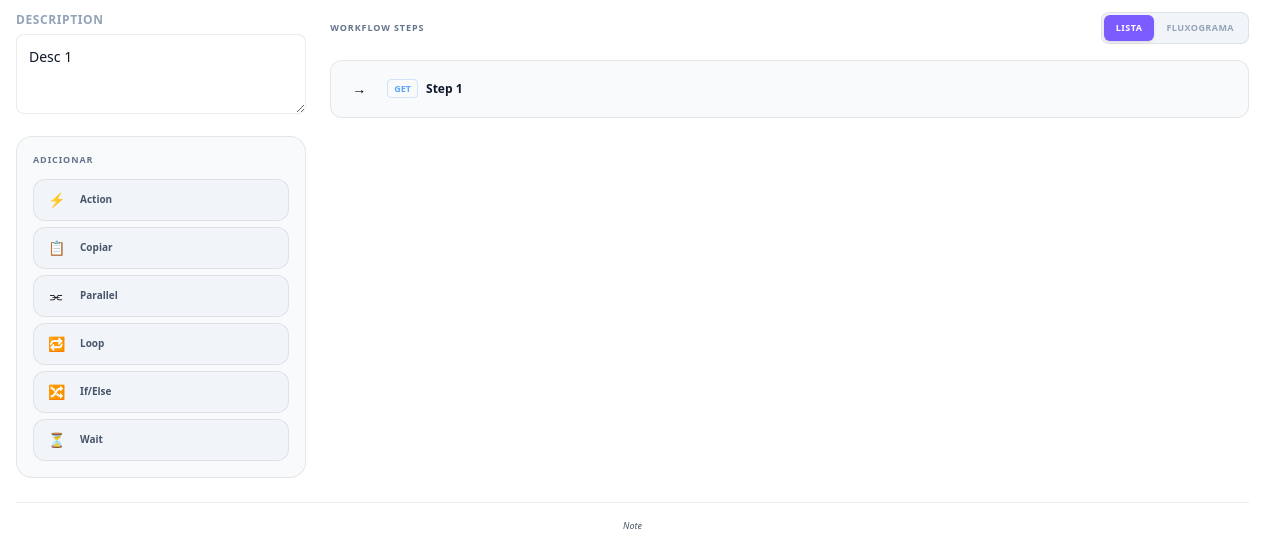
Test: WorkflowEditorView › should add a wait step
This screenshot has width=1266, height=546.
Click the text "Wait": point(91, 440) [80, 432, 103, 447]
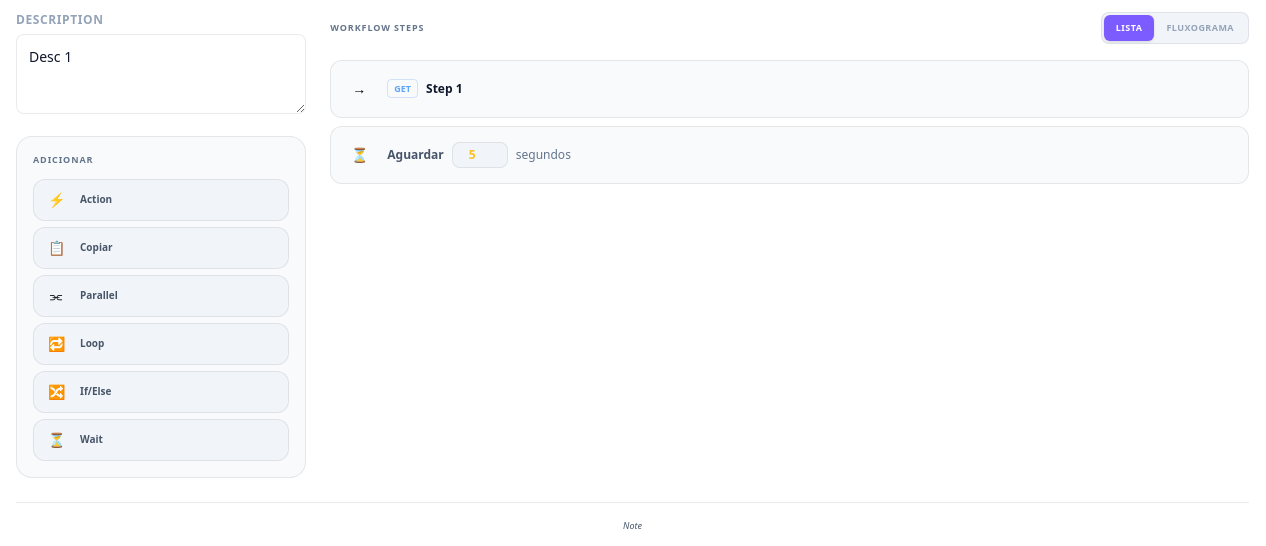
Expected: the text "Aguardar" is shown, [387, 146, 444, 162]
